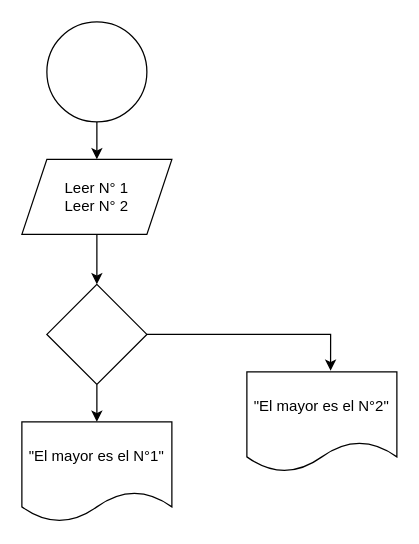
Image size: 419x544. Some labels were removed from this diagram. Each missing label, with the centre of its shape:
"Comparar" goes at (x=96, y=333).
"Inicio" goes at (x=96, y=71).
